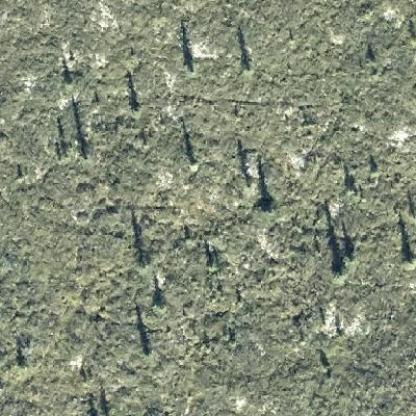tree-top: (328, 261, 350, 285), (254, 196, 277, 218), (133, 254, 152, 274), (399, 250, 415, 272), (150, 299, 168, 317), (128, 102, 146, 118)
